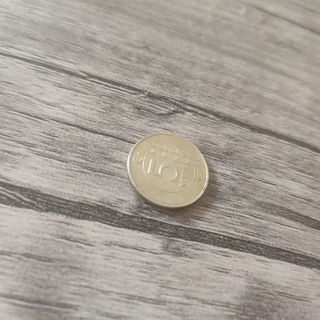5KURUS: (126, 131, 209, 211)
